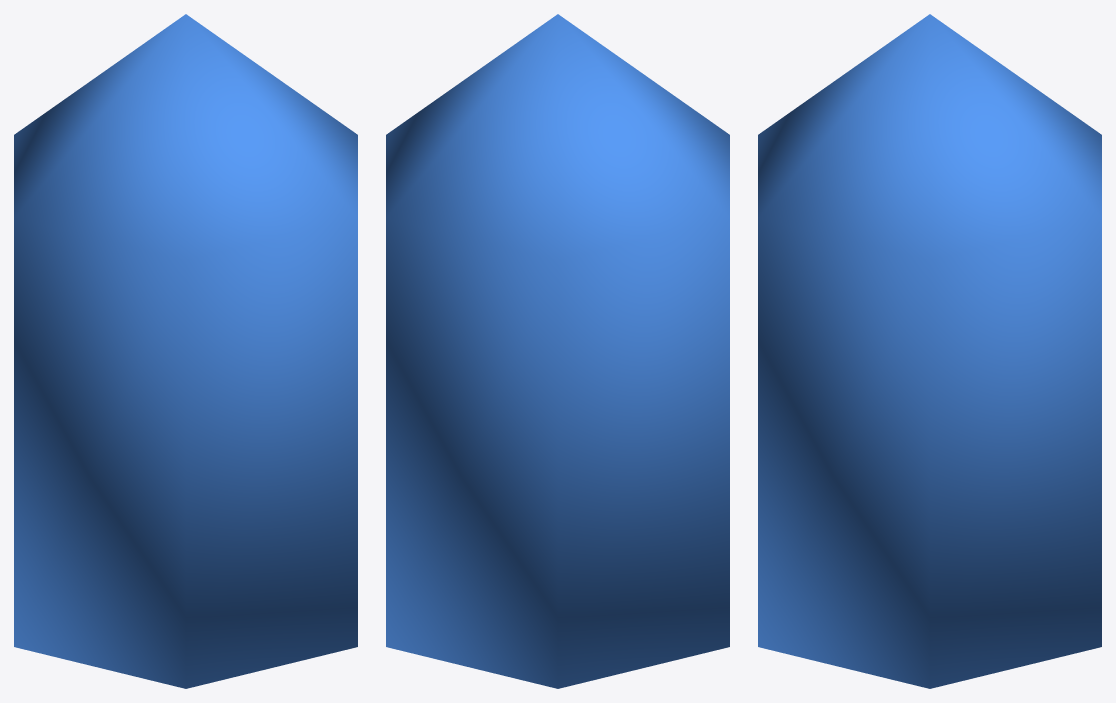
File: quartz-crystal-quality.glb
The picture shows the model from 3 angles, left to right: view 1: azimuth 30°, elevation 25°; view 2: azimuth 150°, elevation 25°; view 3: azimuth 270°, elevation 25°; orthographic projection.
Parts seen in each view (by area): view 1: Schematic crystal; view 2: Schematic crystal; view 3: Schematic crystal.
Part boxes in pixels (bbox=[...]): Schematic crystal: bbox=[14, 14, 357, 688]; Schematic crystal: bbox=[386, 14, 729, 688]; Schematic crystal: bbox=[758, 14, 1101, 688].
Bounding box in the file's own units: 0.84 × 1.38 × 0.7275.
